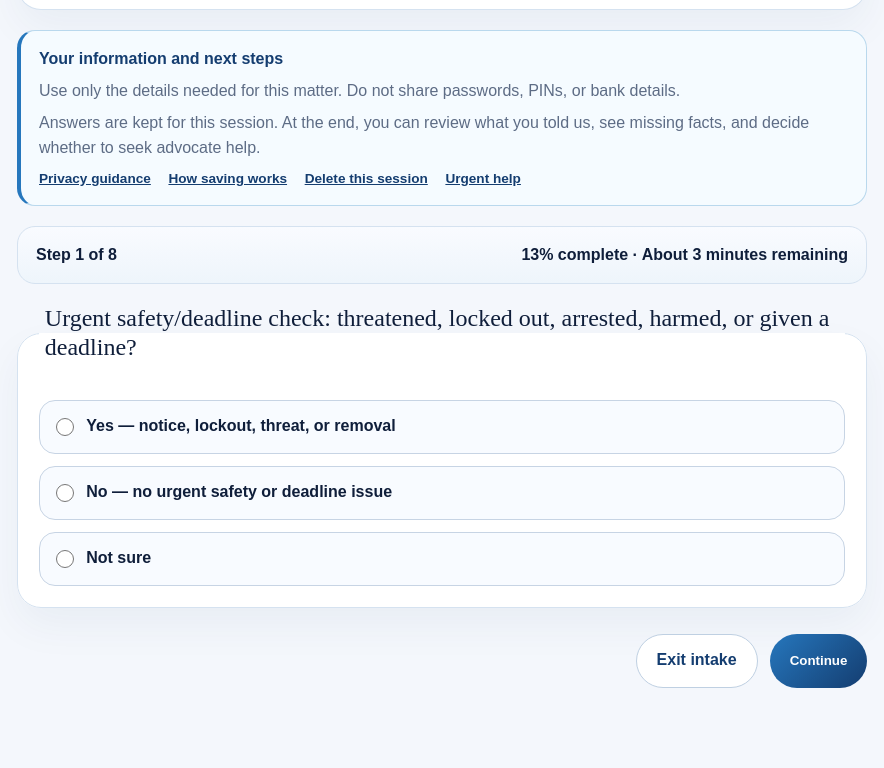
Test case: renders one labelled question, advances, and preserves an answer when going Back
(page scrolled)
expect the text "Step 1 of 8" is shown: met, box [36, 243, 117, 267]
expect the text "13% complete · About 3 minutes remaining" is shown: met, box [521, 243, 848, 267]
Click the radio button labelled "No — no urgent safety or deadline issue" at (65, 493), box [56, 484, 74, 502]
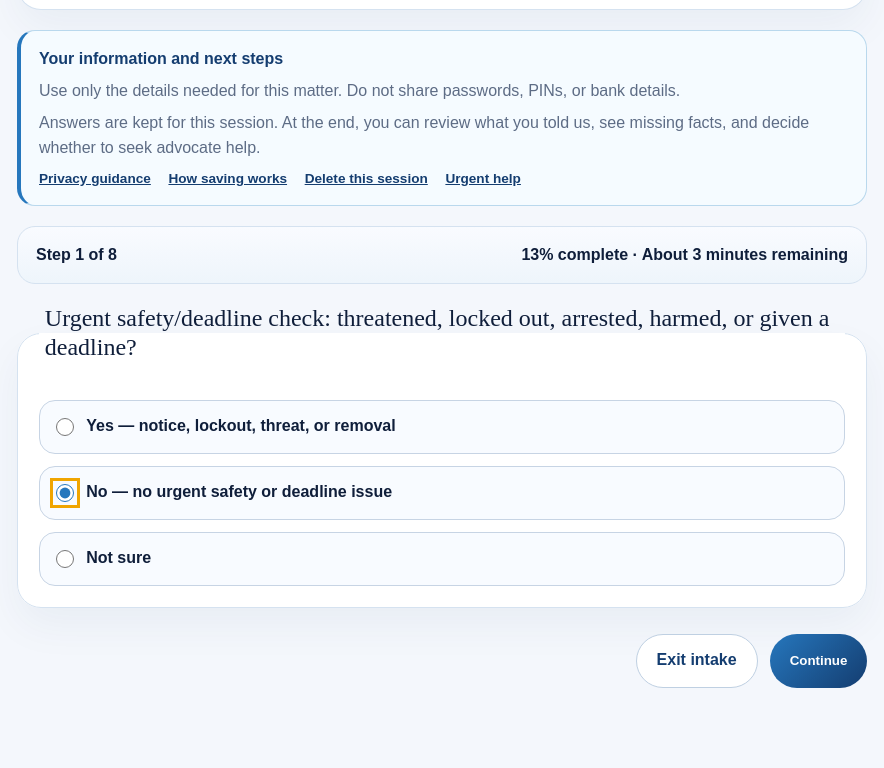
Click the button "Continue" at (818, 661), box [770, 634, 867, 688]
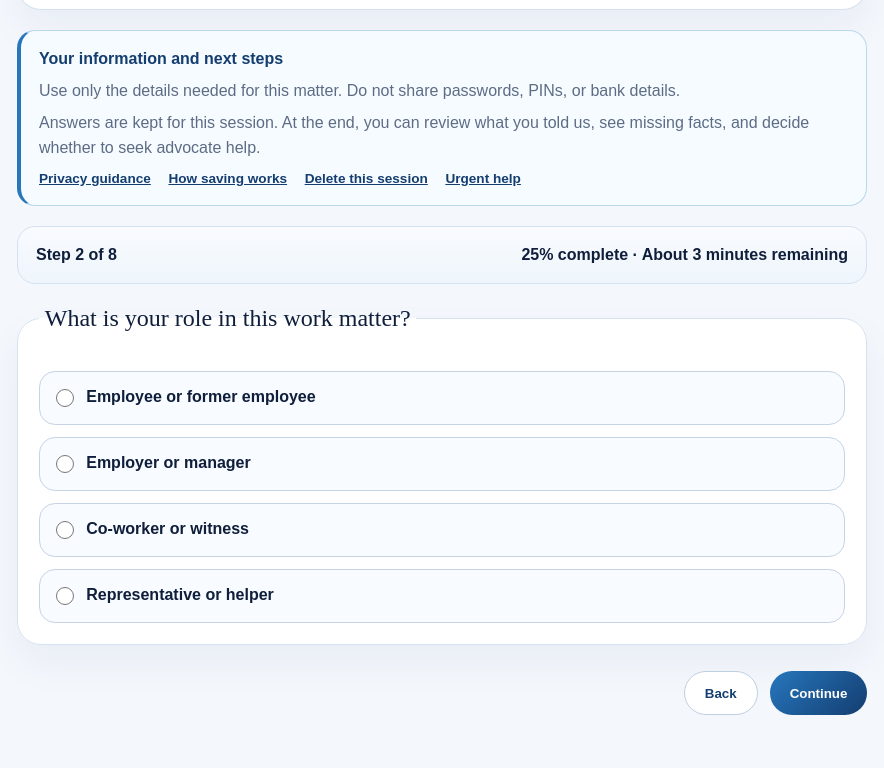
expect the element "What is your role in this work matter?" is shown: met, box [17, 304, 867, 645]
expect the text "Step 2 of 8" is shown: met, box [36, 243, 117, 267]
expect the text "25% complete · About 3 minutes remaining" is shown: met, box [521, 243, 848, 267]
Click the radio button labelled "Employee or former employee" at (65, 398), box [56, 389, 74, 407]
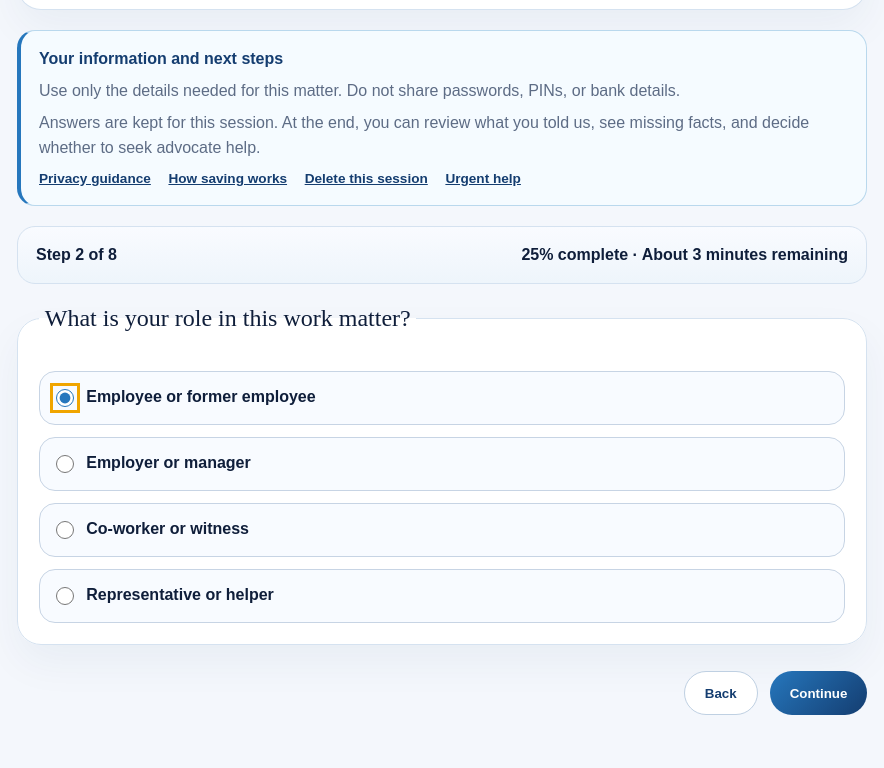
Click the button "Continue" at (818, 693), box [770, 671, 867, 715]
(page scrolled)
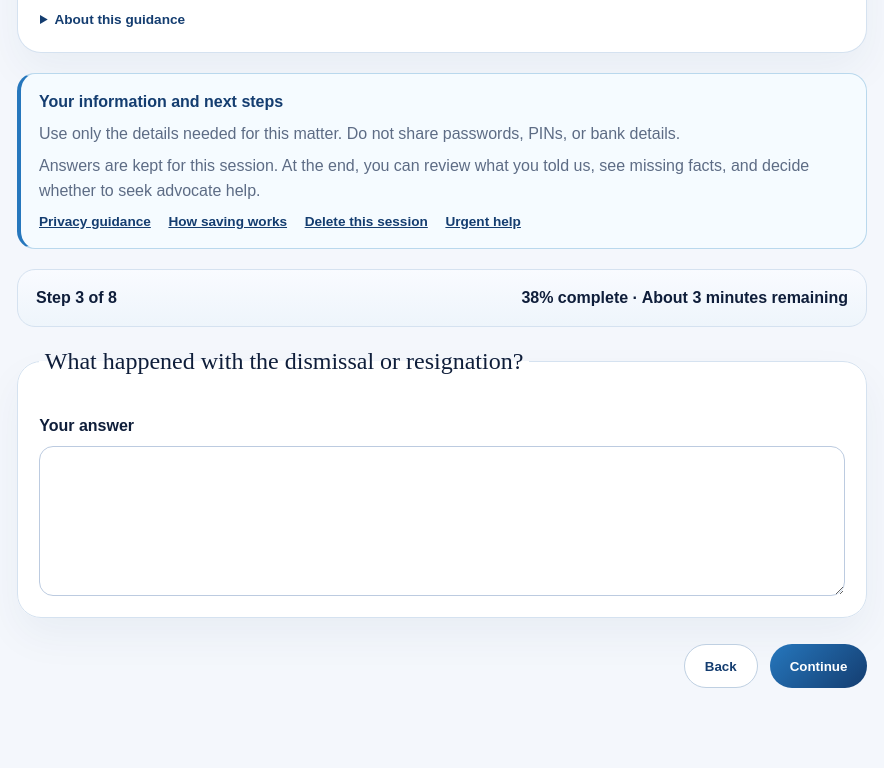
expect the element "What happened with the dismissal or resignation?" is shown: met, box [17, 347, 867, 618]
expect the text "Step 3 of 8" is shown: met, box [36, 286, 117, 310]
expect the text "38% complete · About 3 minutes remaining" is shown: met, box [521, 286, 848, 310]
Click the button "Back" at (721, 666), box [684, 644, 758, 688]
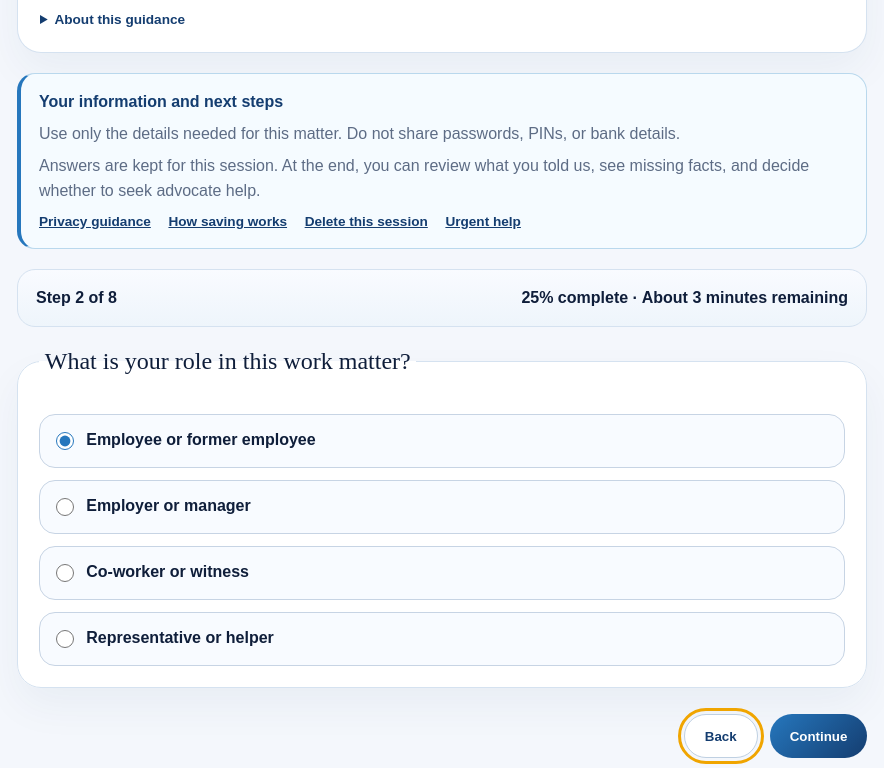
expect the element "What is your role in this work matter?" is shown: met, box [17, 347, 867, 688]
expect the radio button labelled "Employee or former employee" is checked: met, box [56, 432, 74, 450]
